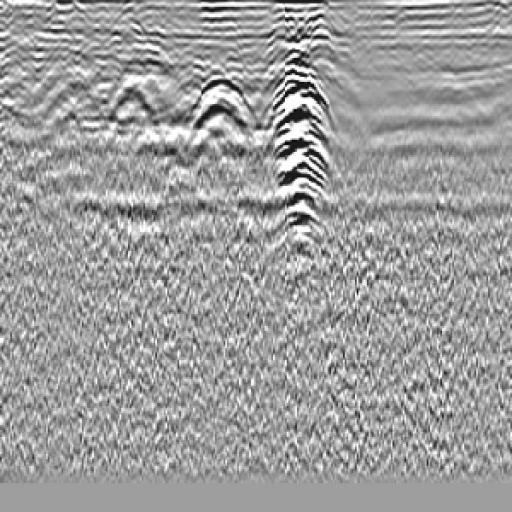metalic: (263, 33, 337, 299)
nonmetalic: (176, 67, 268, 178)
